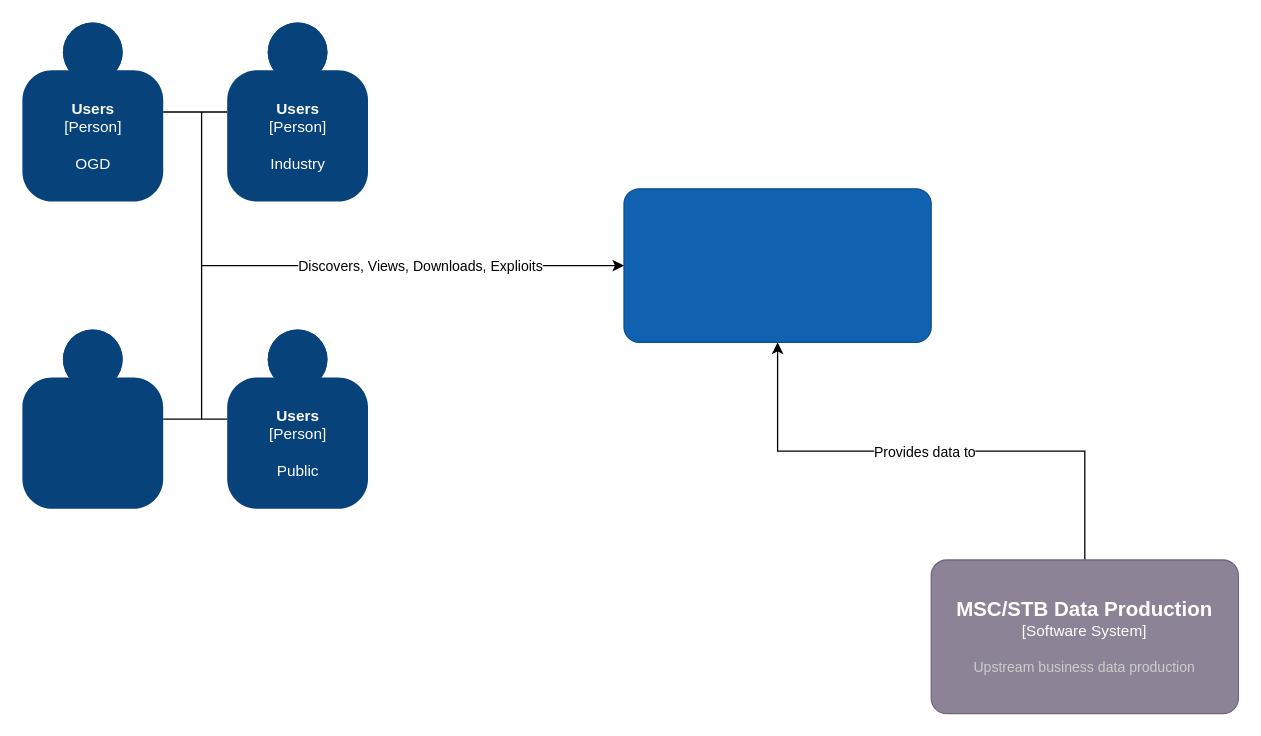
The diagram is 1261 pixels wide and 736 high, and some of its shapes have lost their labels. The shapes that lost their labels are listed below. From the top down, each one's box as (x1, y1, x2, y2) in pixels, then its label:
(623, 188, 931, 342): MSC Data Platform [Software System] Exploitation environment for MSC/STB data
(22, 329, 163, 508): Users [Person] Academia
